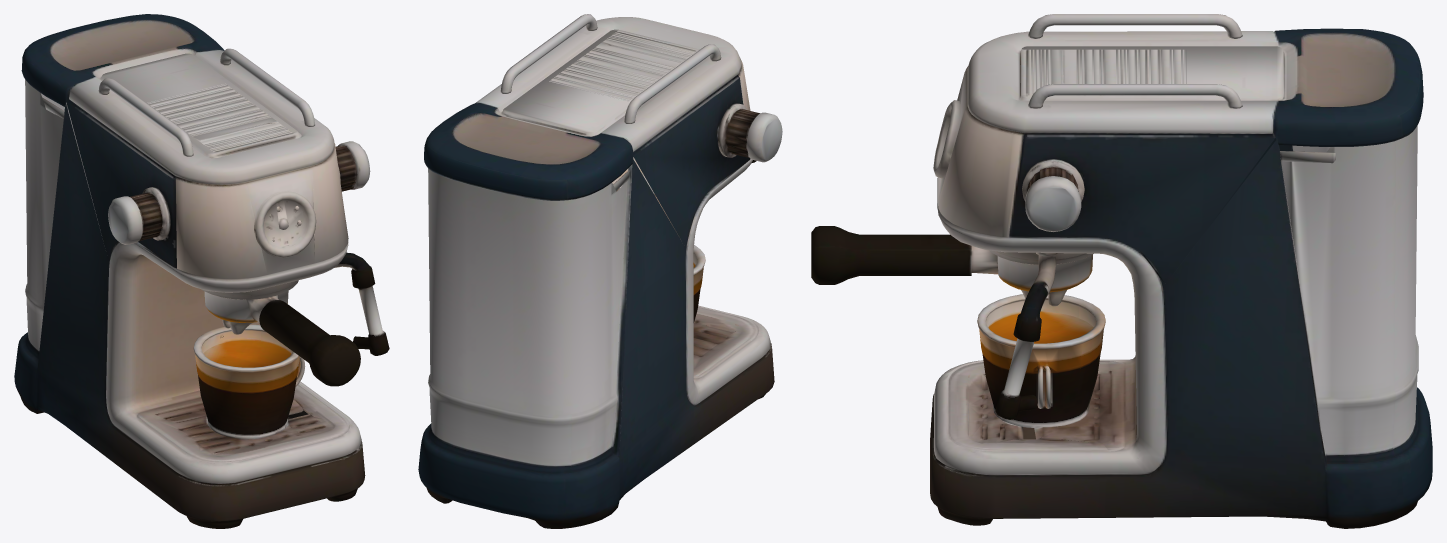
Rendered from espresso_machine_e722ed8c_v2.glb.
3 views of the same model, side by side, from view 1: azimuth 30°, elevation 25°; view 2: azimuth 150°, elevation 25°; view 3: azimuth 270°, elevation 25° (orthographic). The views are drawn at different scales.
Parts seen in each view (by area): view 1: material; view 2: material; view 3: material.
Part boxes in pixels (x1,y1,x2,y2): material: [14, 14, 389, 528]; material: [418, 14, 782, 528]; material: [811, 14, 1432, 528].
Size of the model in its own units: 1.05 by 1.46 by 1.9.
Materials: 1 (1 with a texture image).
